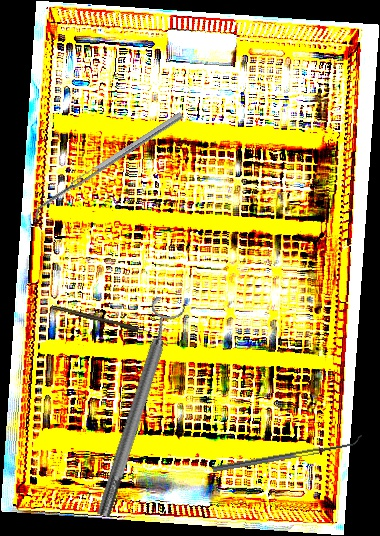Fixation Ring: (84, 295, 189, 521)
Hook Surgical: (50, 304, 153, 336)
Spatula Surgical: (26, 111, 188, 224), (211, 434, 364, 473)
